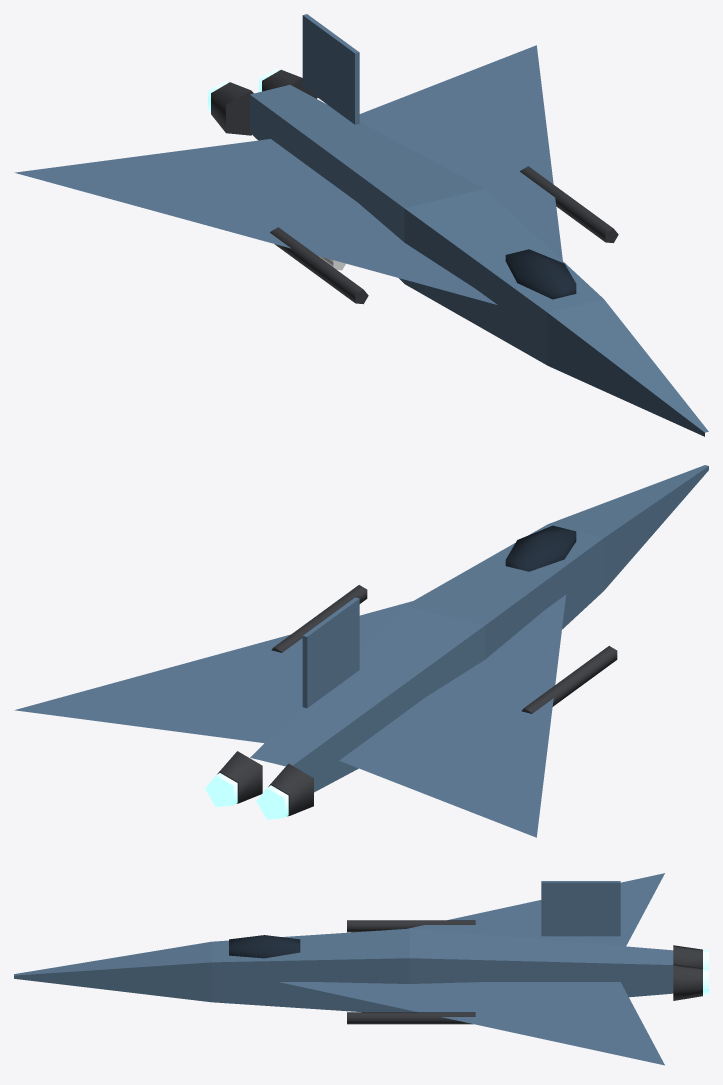
Rendered from space_ship_interceptor_mk5_lod1.glb.
3 renders of one model, top to bottom at view 1: azimuth 30°, elevation 25°; view 2: azimuth 150°, elevation 25°; view 3: azimuth 270°, elevation 25°, orthographic. The views are drawn at different scales.
Parts seen in each view (by area): view 1: body, engine_0, gun_r, gun_l, engine_1; view 2: body, engine_0, engine_1, gun_r, gun_l; view 3: body, gun_l, engine_1, gun_r, engine_0.
Boxes of the visible parts, <box> form: body: <box>14,14,708,436</box>; engine_0: <box>208,80,253,135</box>; gun_r: <box>270,227,368,304</box>; gun_l: <box>520,166,618,243</box>; engine_1: <box>259,68,317,98</box>; body: <box>14,465,708,837</box>; engine_0: <box>256,763,313,819</box>; engine_1: <box>205,751,262,807</box>; gun_r: <box>521,646,617,713</box>; gun_l: <box>271,585,367,652</box>; body: <box>14,873,673,1065</box>; gun_l: <box>347,1012,475,1024</box>; engine_1: <box>673,964,708,1000</box>; gun_r: <box>347,920,475,932</box>; engine_0: <box>673,945,708,969</box>.
Size of the model in its own units: 9.2 by 2.65 by 14.04.
